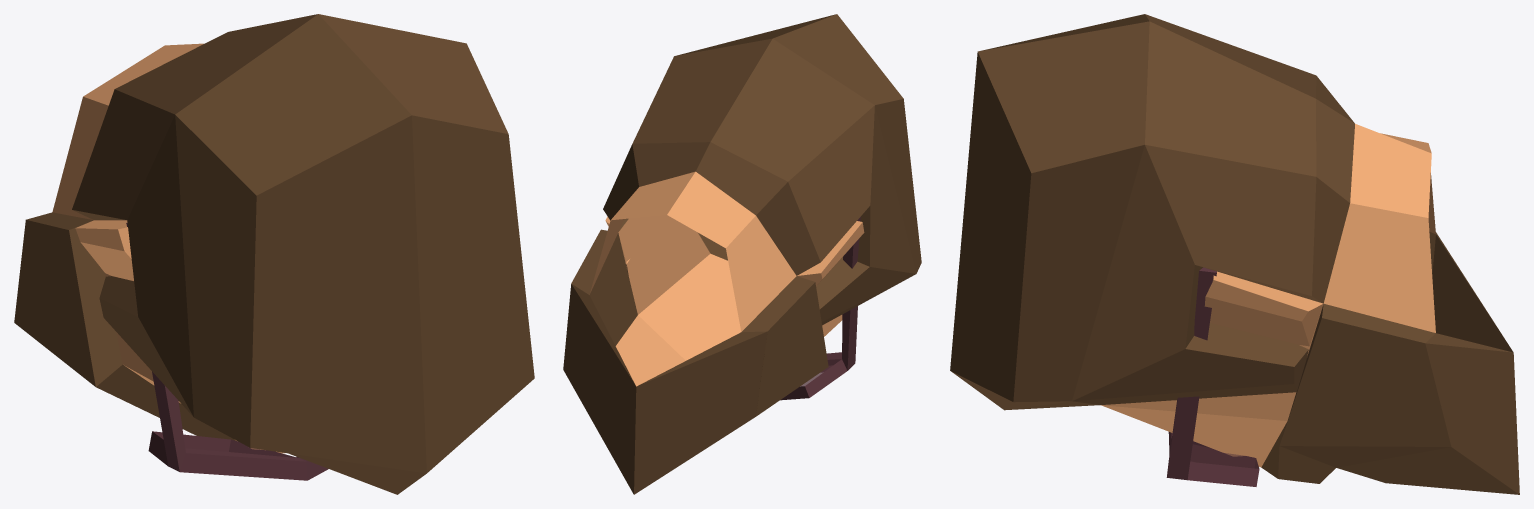
File: head_manDoctor.fbx
The picture shows the model from 3 angles, left to right: view 1: azimuth 30°, elevation 25°; view 2: azimuth 150°, elevation 25°; view 3: azimuth 270°, elevation 25°; orthographic projection. The views are drawn at different scales.
Visible parts, largest first — view 1: man-doctor; view 2: man-doctor; view 3: man-doctor.
Boxes of the visible parts, left/top/right/bottom form: man-doctor: left=14, top=14, right=534, bottom=494; man-doctor: left=563, top=14, right=921, bottom=494; man-doctor: left=950, top=14, right=1519, bottom=494.
Size of the model in its own units: 190 by 281 by 307.
